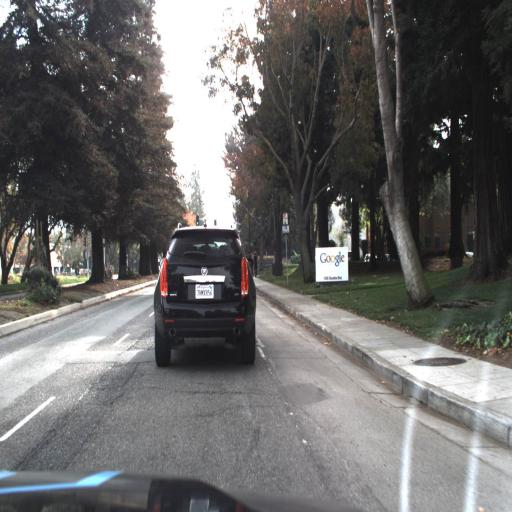car: (148, 224, 259, 368)
trafficLight-Green: (194, 213, 201, 226), (212, 217, 218, 226)
